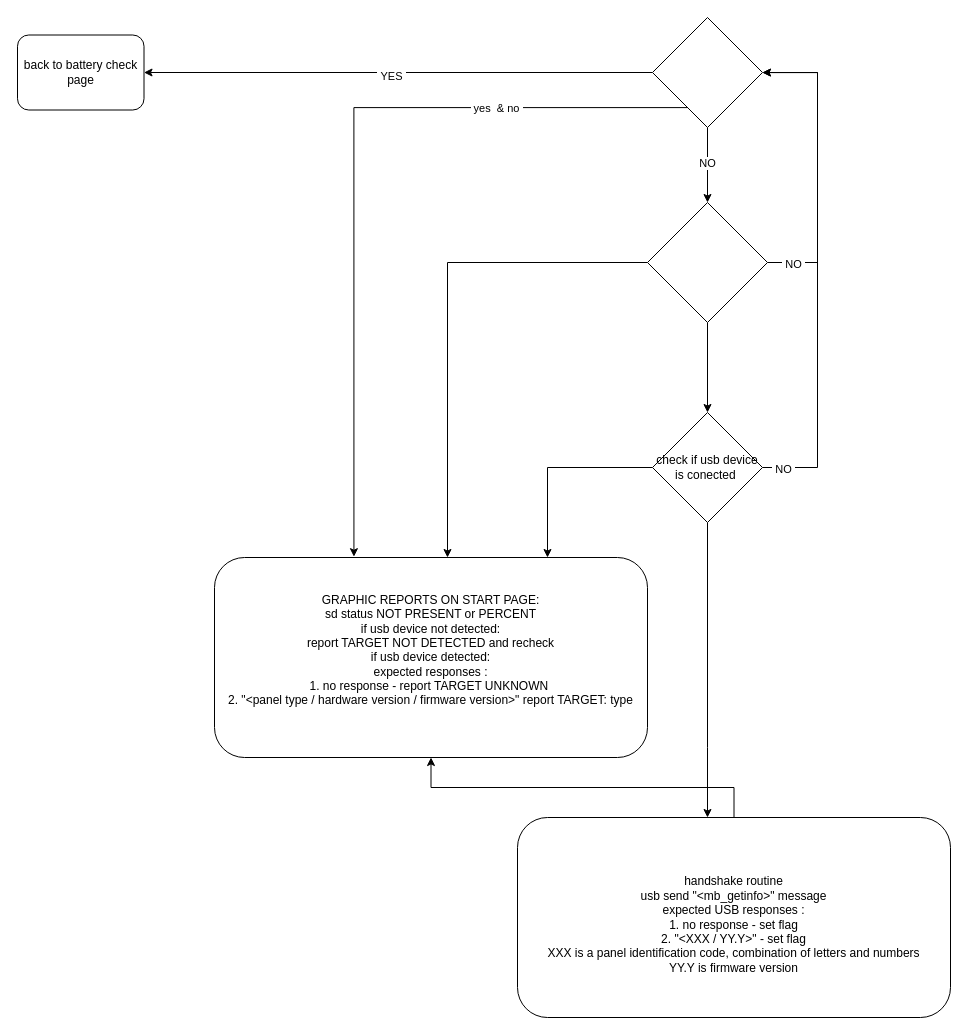
This 968x1035 diagram has some shape labels left out. Here are the shapes that lost their labels. From the top down, the centre of each, then its label:
(707,72): battery check LOW?
(707,262): check sd card present?
